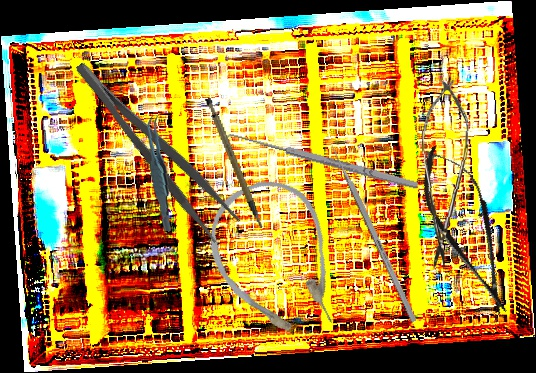Cannula: (191, 165, 361, 357)
Dressing Forceps: (70, 46, 243, 246)
Hook Surgical: (223, 127, 420, 199)
Micro Scissor: (406, 135, 530, 325), (417, 77, 471, 271)
Pusher: (323, 132, 418, 323)
Scalpel Handle: (203, 93, 263, 234)
Tissue Forceps: (137, 114, 182, 232)
